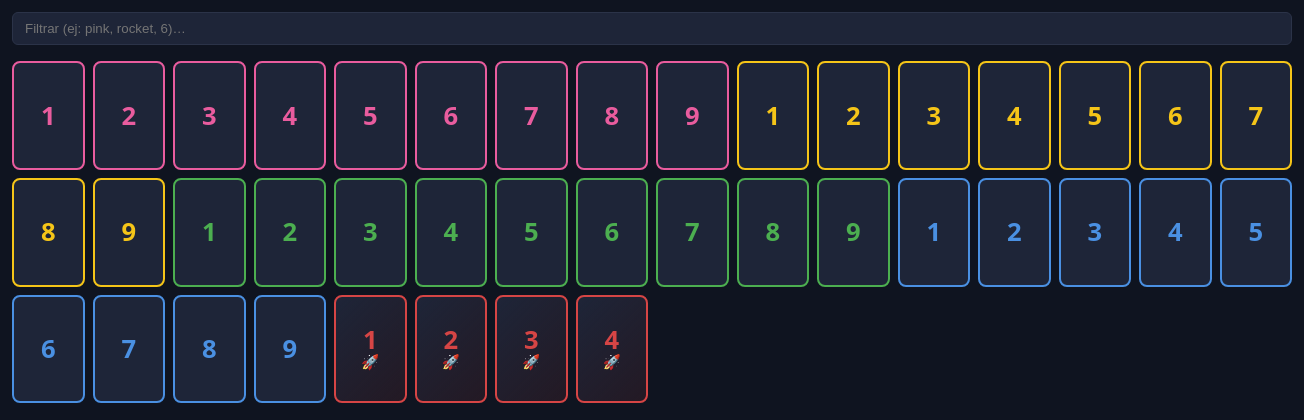
it: CardPicker › filter with no matches shows empty message
In the field: (652, 28) x1=12 y1=12 x2=1292 y2=45, type "zzz"
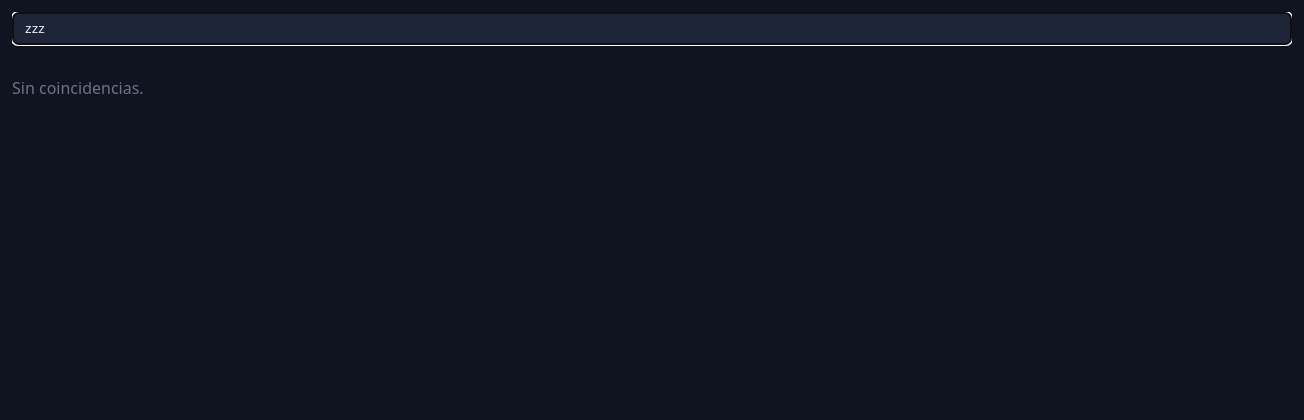
Now the button "1" is gone
